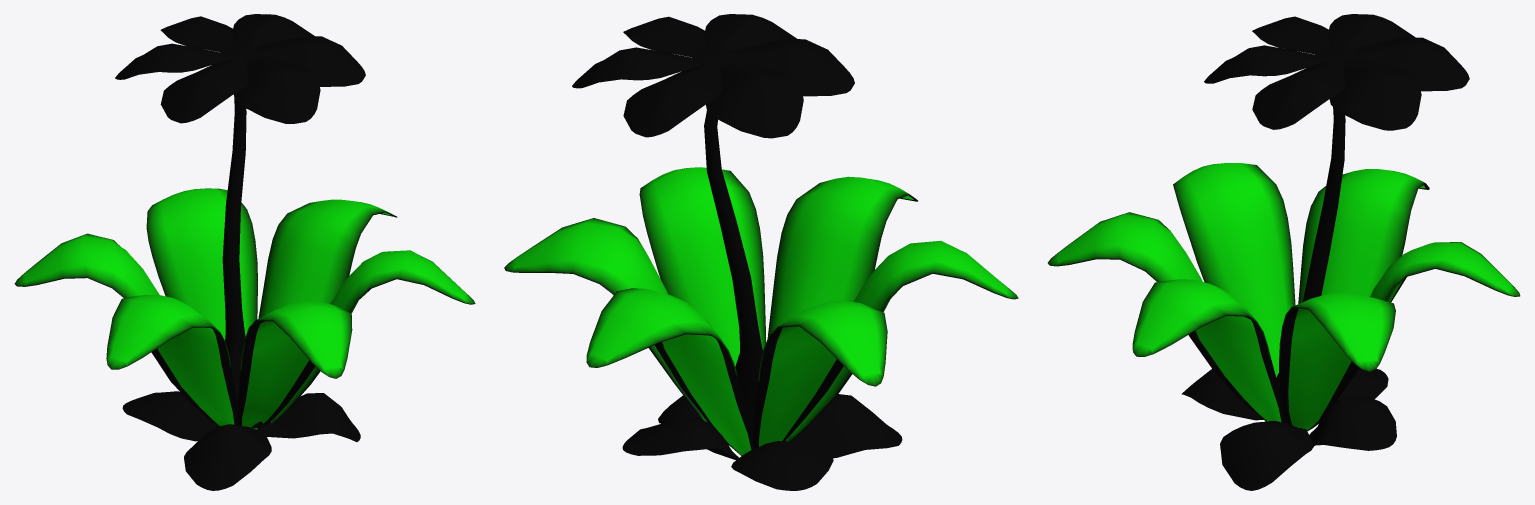
Rendered from Plant_02.fbx.
The picture shows the model from 3 angles, left to right: view 1: azimuth 30°, elevation 25°; view 2: azimuth 150°, elevation 25°; view 3: azimuth 270°, elevation 25°; orthographic projection. The views are drawn at different scales.
Parts seen in each view (by area): view 1: Plant; view 2: Plant; view 3: Plant.
Part boxes in pixels (x1=…): Plant: x1=14, y1=14, x2=475, y2=490; Plant: x1=504, y1=14, x2=1018, y2=490; Plant: x1=1048, y1=14, x2=1520, y2=490.
Size of the model in its own units: 168 by 165 by 175.
